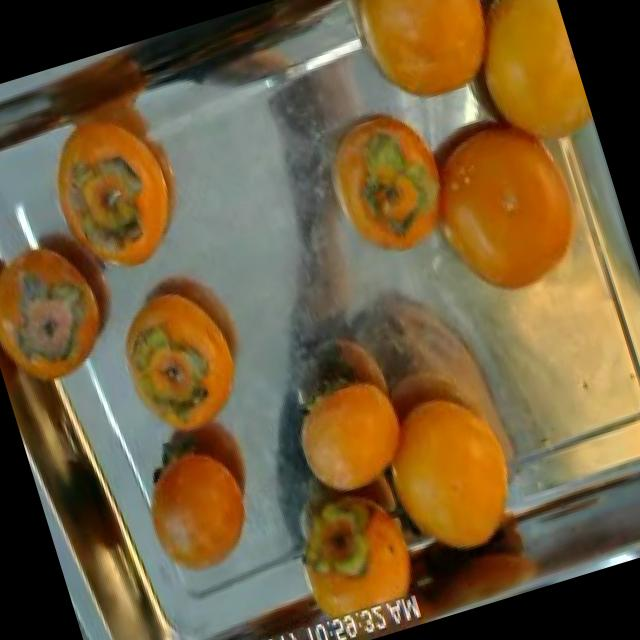Fruit: (438, 231, 640, 492), (12, 63, 218, 304), (357, 358, 550, 587), (87, 239, 280, 458), (110, 380, 296, 600), (294, 76, 482, 291), (266, 447, 437, 640), (0, 201, 151, 410), (263, 341, 430, 519), (326, 0, 525, 140)
